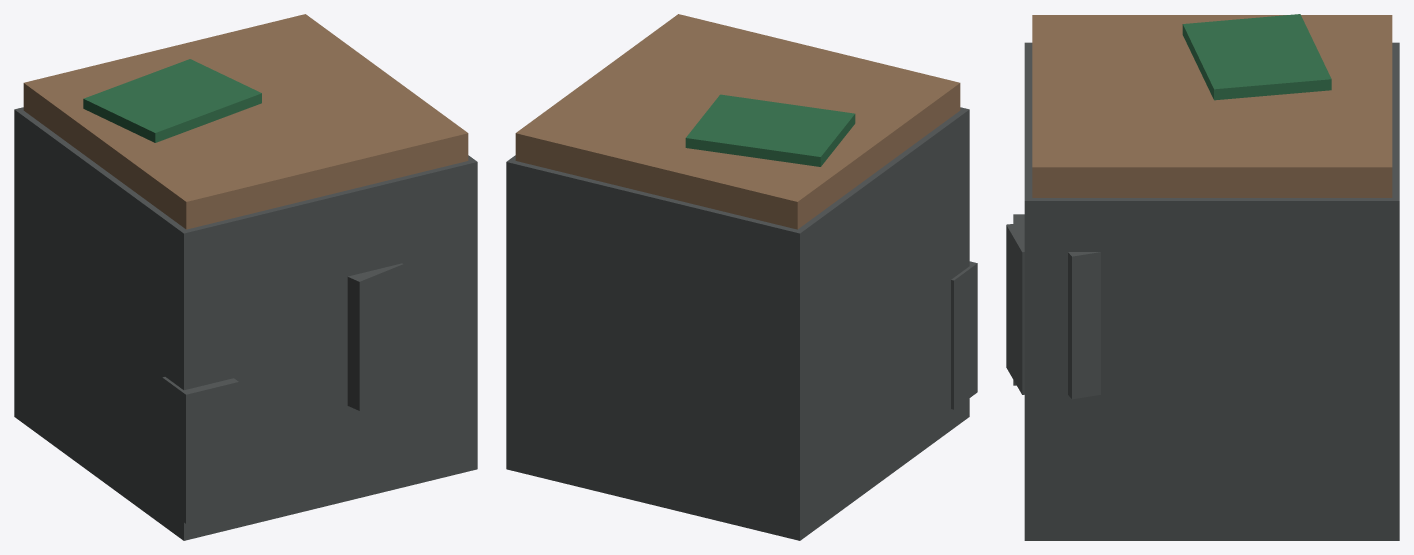
File: df_cliff_chunk_b.glb
3 views of the same model, side by side, from view 1: azimuth 30°, elevation 25°; view 2: azimuth 150°, elevation 25°; view 3: azimuth 270°, elevation 25° (orthographic). The views are drawn at different scales.
Visible parts, largest first — view 1: cliff_mass, mud_cap, rock_chip_0, moss_cap_patch, rock_chip_2; view 2: cliff_mass, mud_cap, moss_cap_patch, rock_chip_0; view 3: cliff_mass, mud_cap, moss_cap_patch, rock_chip_3, rock_chip_2.
Part boxes in pixels (box(x1,y1,x2,y2)): cliff_mass: box(14, 107, 477, 540); mud_cap: box(23, 14, 468, 229); rock_chip_0: box(162, 377, 238, 523); moss_cap_patch: box(83, 59, 261, 142); rock_chip_2: box(347, 263, 403, 410); cliff_mass: box(506, 107, 969, 540); mud_cap: box(515, 14, 960, 229); moss_cap_patch: box(685, 94, 855, 166); rock_chip_0: box(951, 261, 977, 409); cliff_mass: box(1024, 42, 1399, 540); mud_cap: box(1032, 15, 1392, 197); moss_cap_patch: box(1182, 14, 1331, 100); rock_chip_3: box(1068, 252, 1100, 399); rock_chip_2: box(1006, 222, 1024, 394).
Size of the model in its own units: 1.04 by 1.12 by 1.05.
